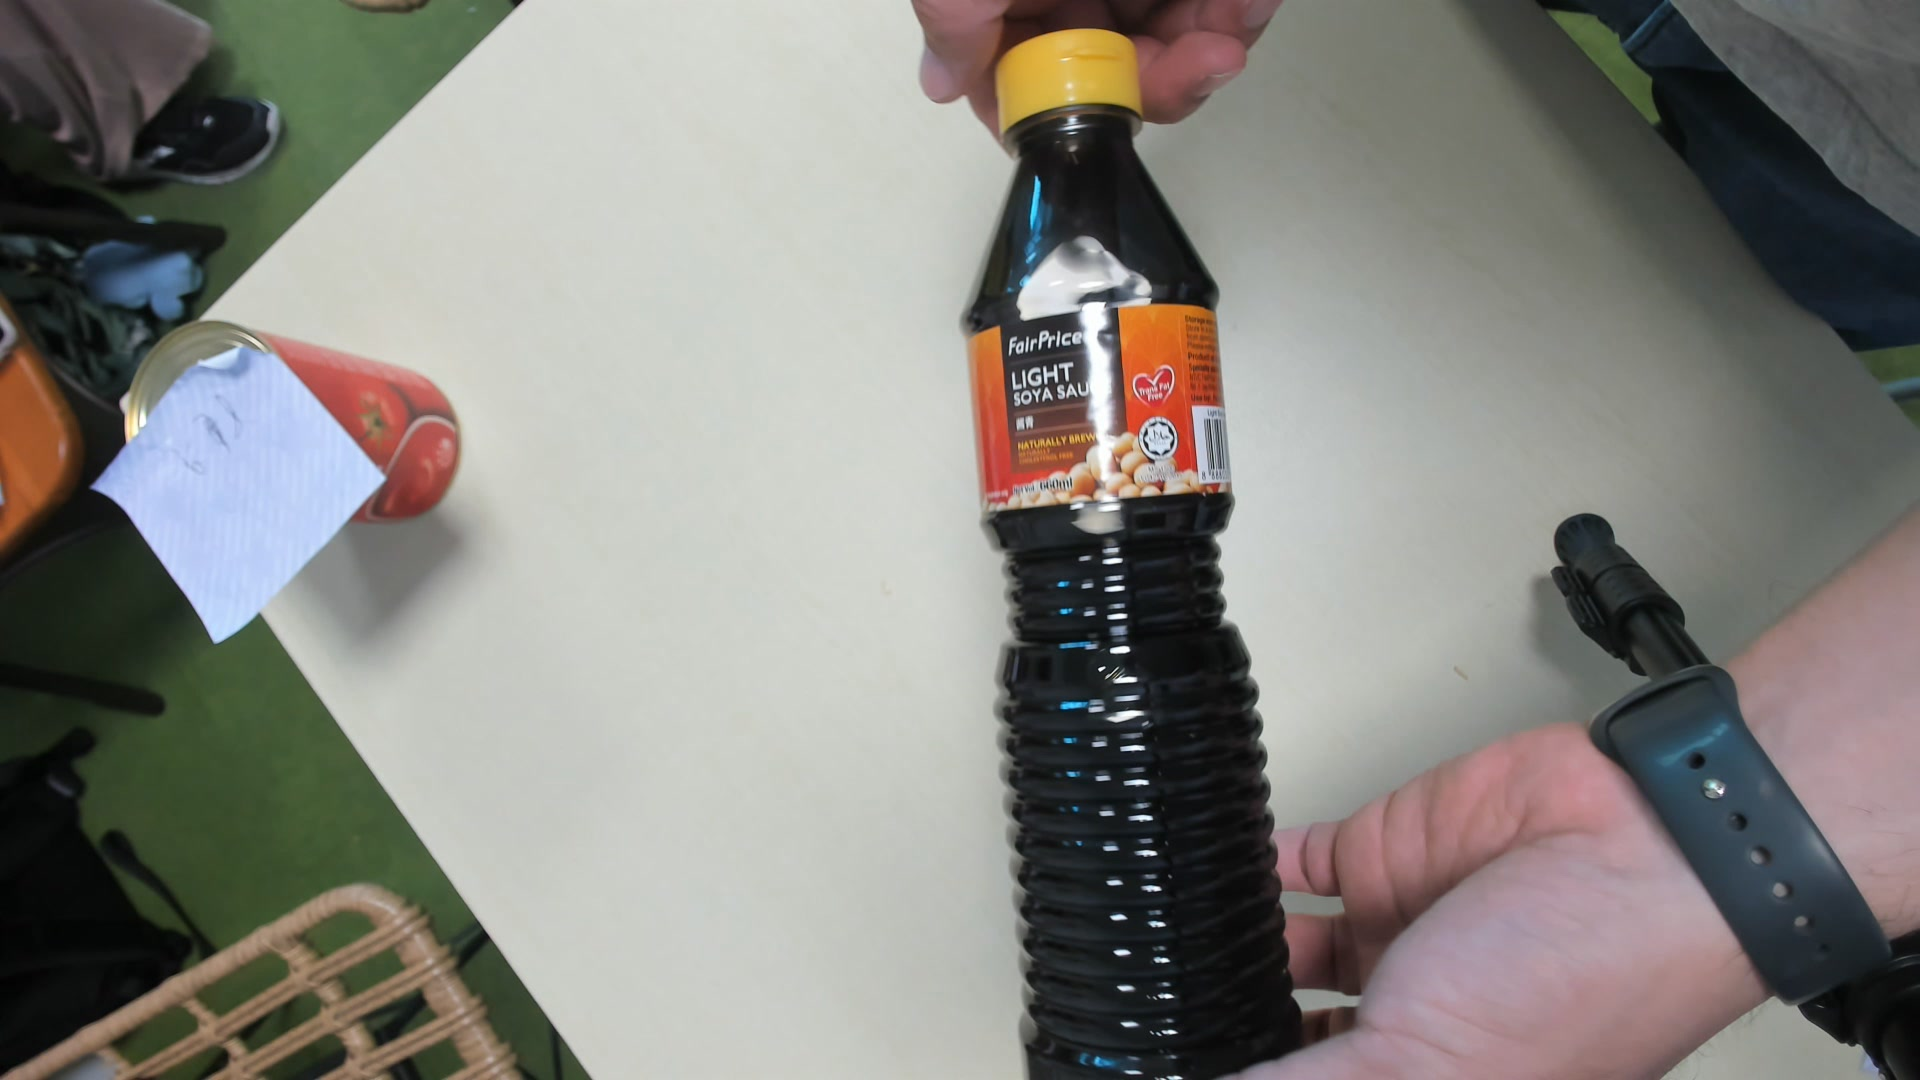OtherSauceDressingSoupbasePaste_600-699g_Halal_NonHealthy: (963, 26, 1311, 1080)
